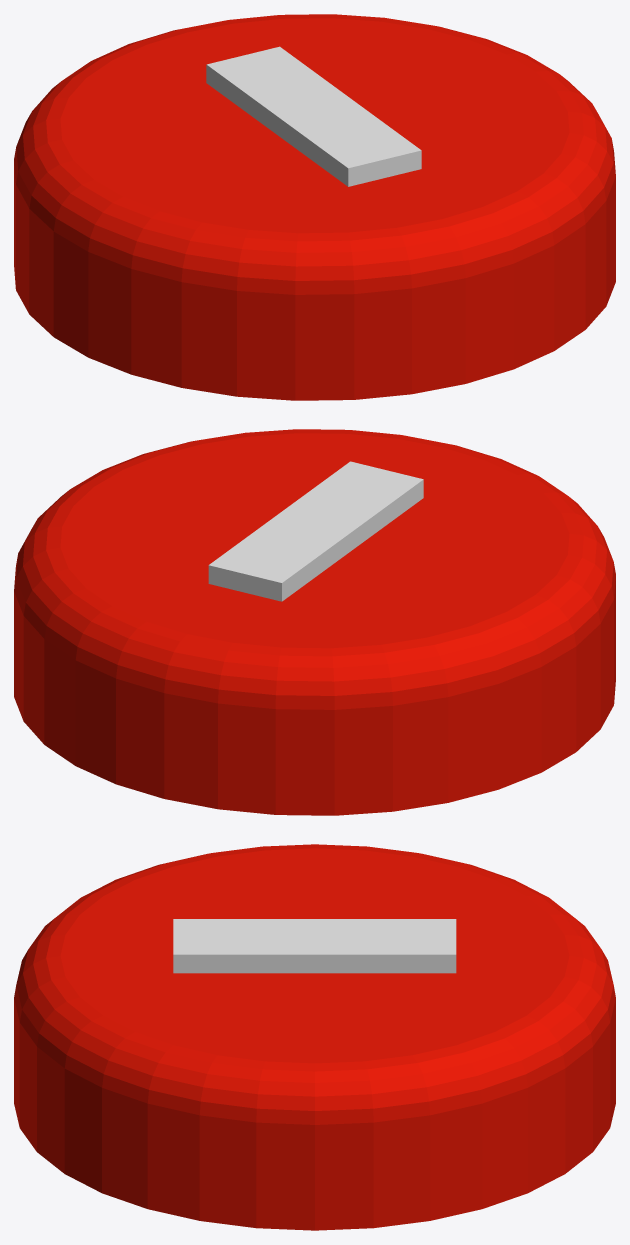
File: zoomout.fbx
The picture shows the model from 3 angles, top to bottom: view 1: azimuth 30°, elevation 25°; view 2: azimuth 150°, elevation 25°; view 3: azimuth 270°, elevation 25°; orthographic projection.
Parts seen in each view (by area): view 1: Cylinder.002; view 2: Cylinder.002; view 3: Cylinder.002.
Part boxes in pixels (box(x1,y1,x2,y2)): Cylinder.002: box(14, 14, 615, 400); Cylinder.002: box(14, 429, 615, 815); Cylinder.002: box(14, 844, 615, 1230).
Size of the model in its own units: 50.02 by 15.23 by 50.02.
